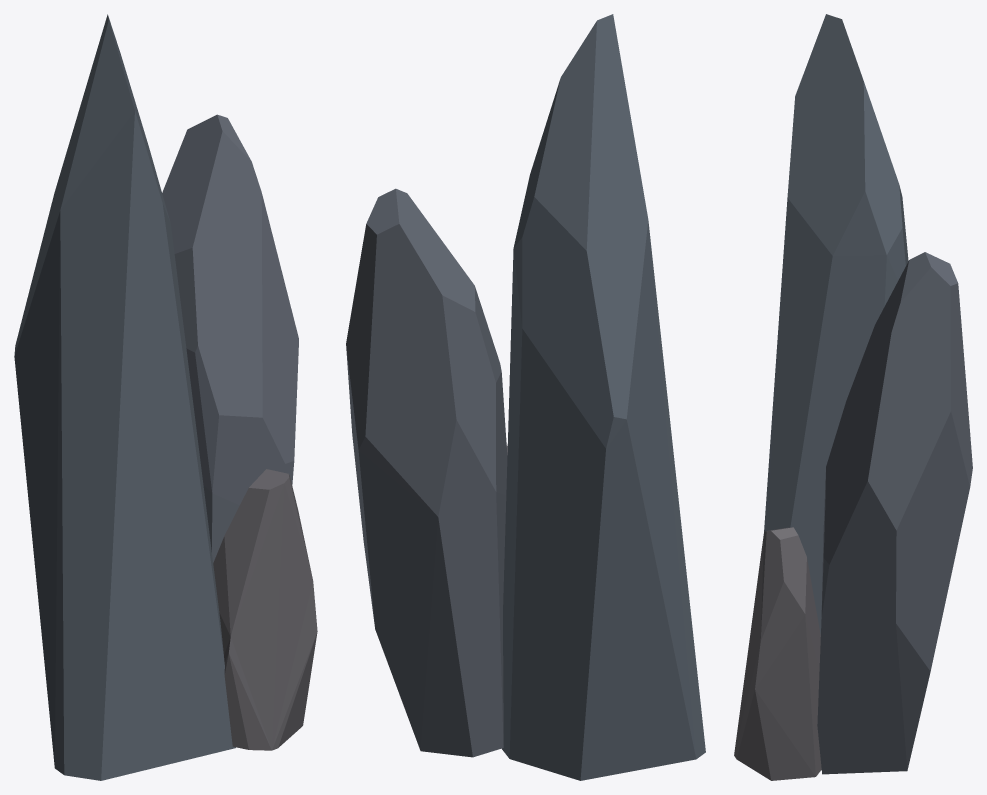
File: Rocks_Sharp_l_05 2.fbx
The picture shows the model from 3 angles, left to right: view 1: azimuth 30°, elevation 25°; view 2: azimuth 150°, elevation 25°; view 3: azimuth 270°, elevation 25°; orthographic projection. The views are drawn at different scales.
Parts seen in each view (by area): view 1: Rocks_Sharp_l_05; view 2: Rocks_Sharp_l_05; view 3: Rocks_Sharp_l_05.
Part boxes in pixels (x1,y1,x2,y2): Rocks_Sharp_l_05: (14, 14, 317, 780); Rocks_Sharp_l_05: (346, 14, 705, 780); Rocks_Sharp_l_05: (734, 14, 972, 780).
Bounding box in the file's own units: 240 × 583 × 183.
